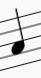A: (8, 5, 27, 69)
